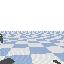drone: (0, 34, 3, 43)
